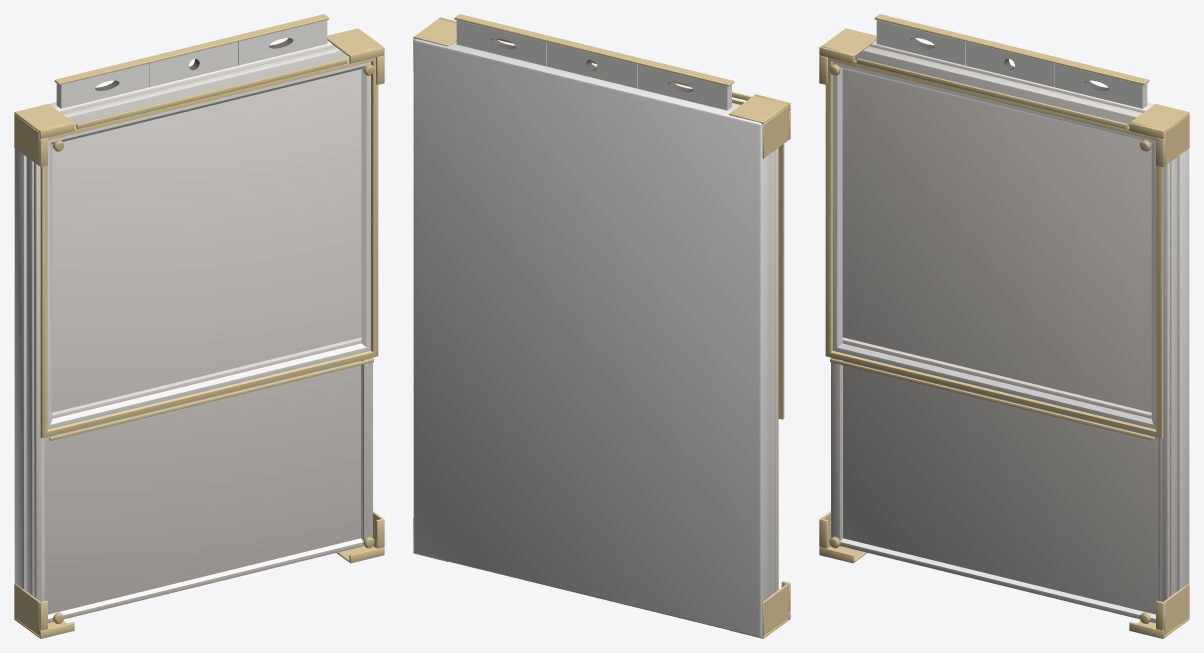
Rendered from cel-folio-hd.glb.
3 views of the same model, side by side, from view 1: azimuth 30°, elevation 25°; view 2: azimuth 150°, elevation 25°; view 3: azimuth 330°, elevation 25° (orthographic).
Visible parts, largest first — view 1: cel_02_substrate, cel_03_cel_frame, cel_01_carrier, cel_05_fasteners, cel_04_cover; view 2: cel_01_carrier, cel_05_fasteners, cel_02_substrate, cel_03_cel_frame; view 3: cel_02_substrate, cel_03_cel_frame, cel_01_carrier, cel_05_fasteners, cel_04_cover.
Boxes of the visible parts, x1,y1,x2,y2 form: cel_02_substrate: (26,46,372,622); cel_03_cel_frame: (40,57,378,438); cel_01_carrier: (14,14,334,590); cel_05_fasteners: (14,28,384,638); cel_04_cover: (49,58,373,440); cel_01_carrier: (413,14,769,637); cel_05_fasteners: (413,17,790,638); cel_02_substrate: (731,103,778,595); cel_03_cel_frame: (502,42,784,419); cel_02_substrate: (831,46,1177,622); cel_03_cel_frame: (825,57,1163,438); cel_01_carrier: (869,14,1189,590); cel_05_fasteners: (819,28,1189,638); cel_04_cover: (830,58,1154,440).
Size of the model in its own units: 2.3 by 3.4 by 0.36.
